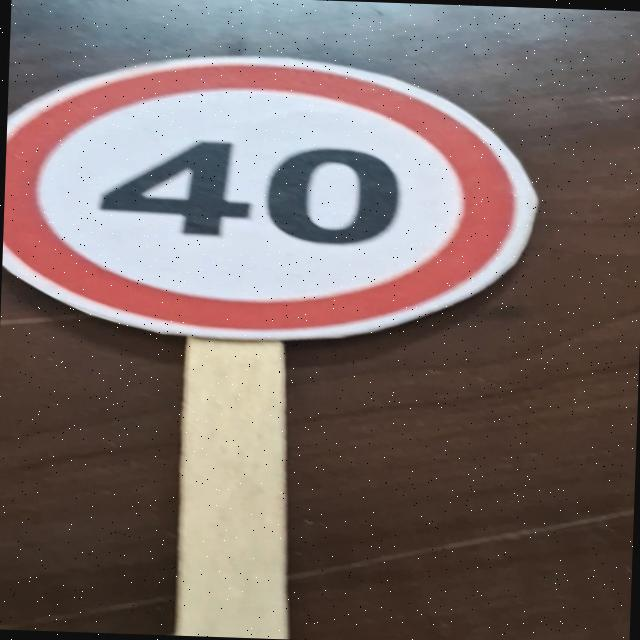Speed40: (0, 43, 548, 352)
